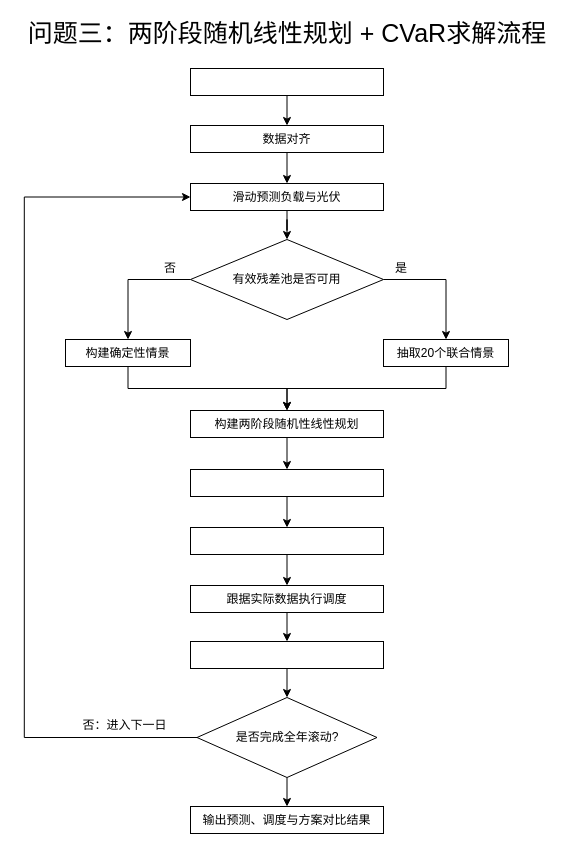
This 572x851 diagram has some shape labels left out. Here are the shapes that lost their labels. From the top down, the centre of each, then its label:
At pixel 287 82: "附件一、二数据读取".
At pixel 287 482: "加入CVaR尾部风险控制".
At pixel 287 540: "HiGHS求解并检查最优状态".
At pixel 287 654: "更新SOC与联合残差池".
